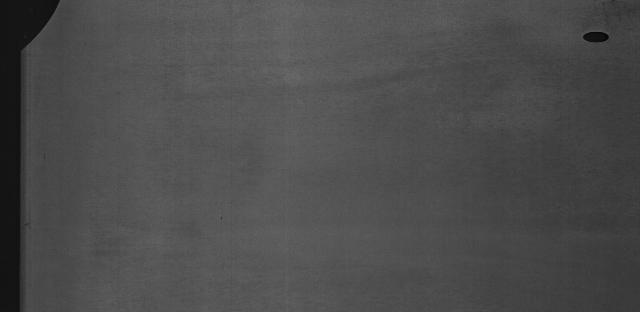punching_hole: (573, 28, 633, 56)
